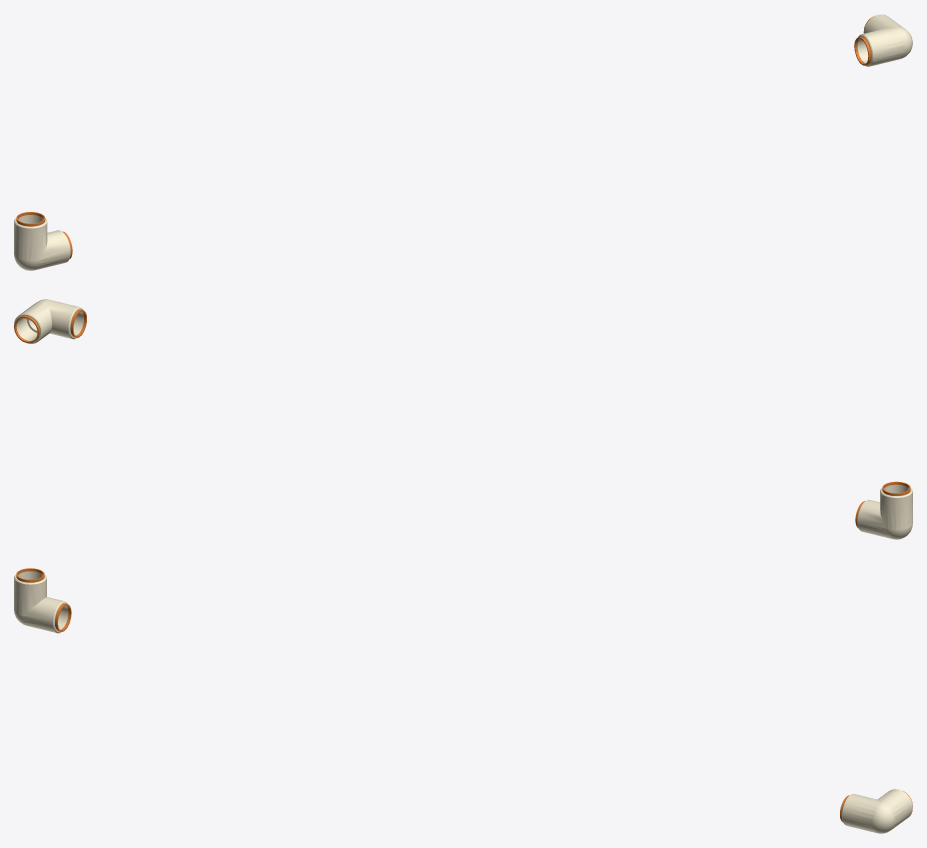
Rendered from pipes_supply__water_heater__76b3621f.glb.
The picture shows the model from 3 angles, top to bottom: view 1: azimuth 30°, elevation 25°; view 2: azimuth 150°, elevation 25°; view 3: azimuth 330°, elevation 25°; orthographic projection.
Parts seen in each view (by area): view 1: fit_elbow_pipe_supply_cold_riser_tmv_lo_flo_s_2, fit_elbow_pipe_supply_cold_riser_tmv_lo_flo_s_1; view 2: fit_elbow_pipe_supply_cold_riser_tmv_lo_flo_s_2, fit_elbow_pipe_supply_cold_riser_tmv_lo_flo_s_1; view 3: fit_elbow_pipe_supply_cold_riser_tmv_lo_flo_s_2, fit_elbow_pipe_supply_cold_riser_tmv_lo_flo_s_1.
Boxes of the visible parts, x1,y1,x2,y2 form: fit_elbow_pipe_supply_cold_riser_tmv_lo_flo_s_2: [14, 212, 72, 270]; fit_elbow_pipe_supply_cold_riser_tmv_lo_flo_s_1: [854, 14, 912, 66]; fit_elbow_pipe_supply_cold_riser_tmv_lo_flo_s_2: [855, 481, 912, 539]; fit_elbow_pipe_supply_cold_riser_tmv_lo_flo_s_1: [14, 299, 86, 343]; fit_elbow_pipe_supply_cold_riser_tmv_lo_flo_s_2: [14, 568, 71, 633]; fit_elbow_pipe_supply_cold_riser_tmv_lo_flo_s_1: [840, 789, 912, 833].
Size of the model in its own units: 0.8835 by 0.0485 by 0.0485.
